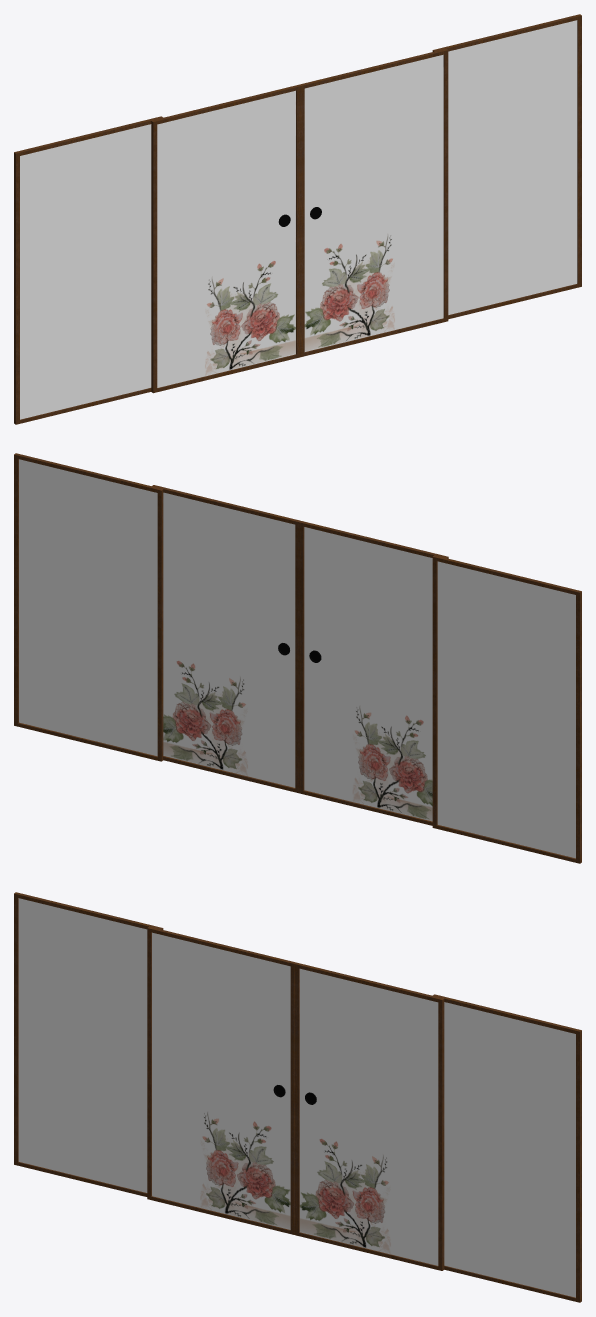
Rendered from Shoji_Door_X.fbx.
3 views of the same model, one above another, from view 1: azimuth 30°, elevation 25°; view 2: azimuth 150°, elevation 25°; view 3: azimuth 330°, elevation 25° (orthographic).
Visible parts, largest first — view 1: Shoji Door 1X_LOD0, Shoji Door 3X_LOD0, Shoji Door 4X, Shoji Door 2X; view 2: Shoji Door 2X, Shoji Door 4X, Shoji Door 3X_LOD0, Shoji Door 1X_LOD0; view 3: Shoji Door 3X_LOD0, Shoji Door 1X_LOD0, Shoji Door 2X, Shoji Door 4X.
Boxes of the visible parts, <box> form: Shoji Door 1X_LOD0: <box>151,84,300,393</box>; Shoji Door 3X_LOD0: <box>299,49,448,356</box>; Shoji Door 4X: <box>14,116,162,424</box>; Shoji Door 2X: <box>432,14,581,319</box>; Shoji Door 2X: <box>14,453,163,761</box>; Shoji Door 4X: <box>432,555,581,863</box>; Shoji Door 3X_LOD0: <box>152,485,300,793</box>; Shoji Door 1X_LOD0: <box>299,521,448,825</box>; Shoji Door 3X_LOD0: <box>295,962,444,1270</box>; Shoji Door 1X_LOD0: <box>147,926,296,1234</box>; Shoji Door 2X: <box>433,994,581,1302</box>; Shoji Door 4X: <box>14,892,163,1196</box>.
Size of what is drawn, in the model's own units: 496 by 227 by 6.
